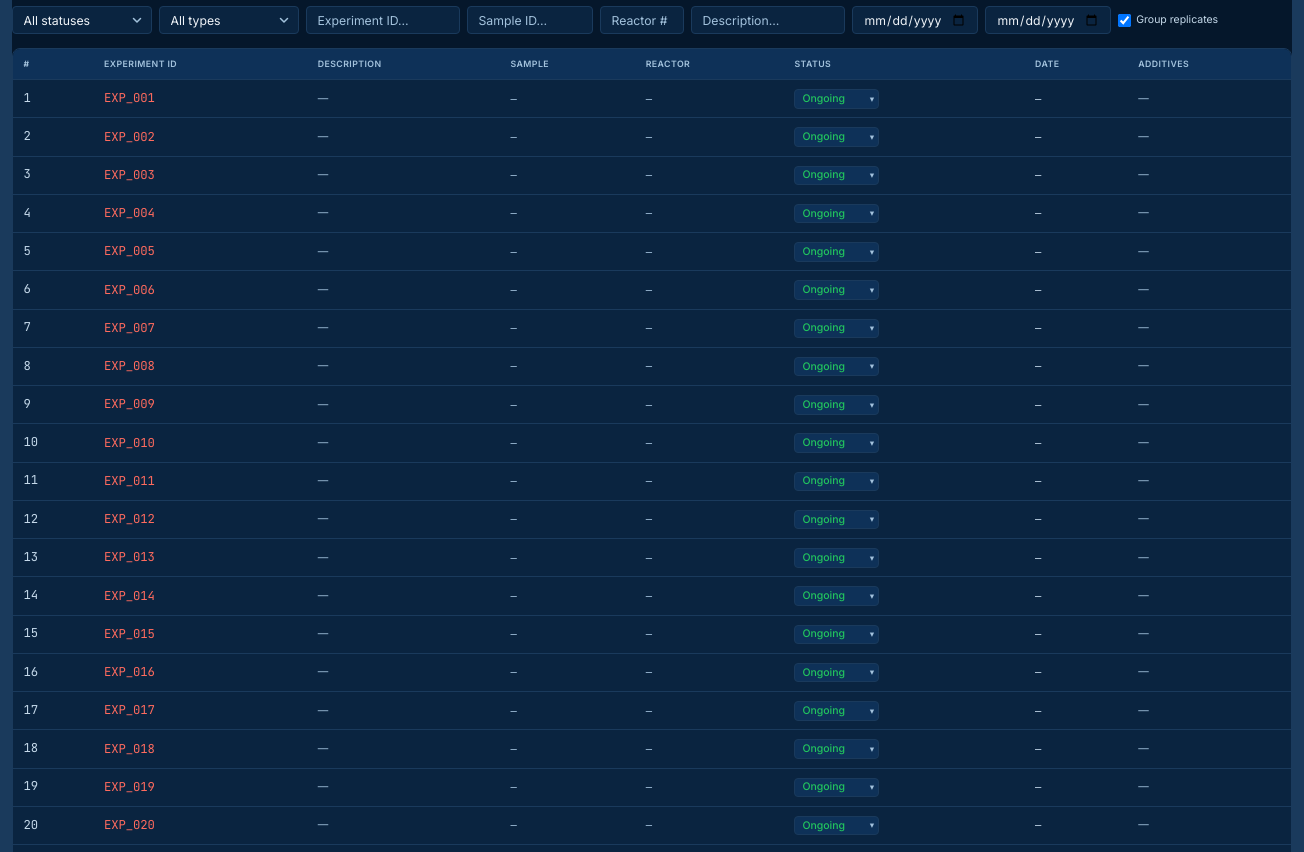
Scenario: ExperimentListPage — pagination reset on filter › resets to page 1 when filters are cleared
# Apply a filter (lands on page 1)
Step 1. Select "Ongoing" in the dropdown named "status filter" → [82, 20], box top-left (12, 6), bottom-right (152, 34)
(page scrolled)
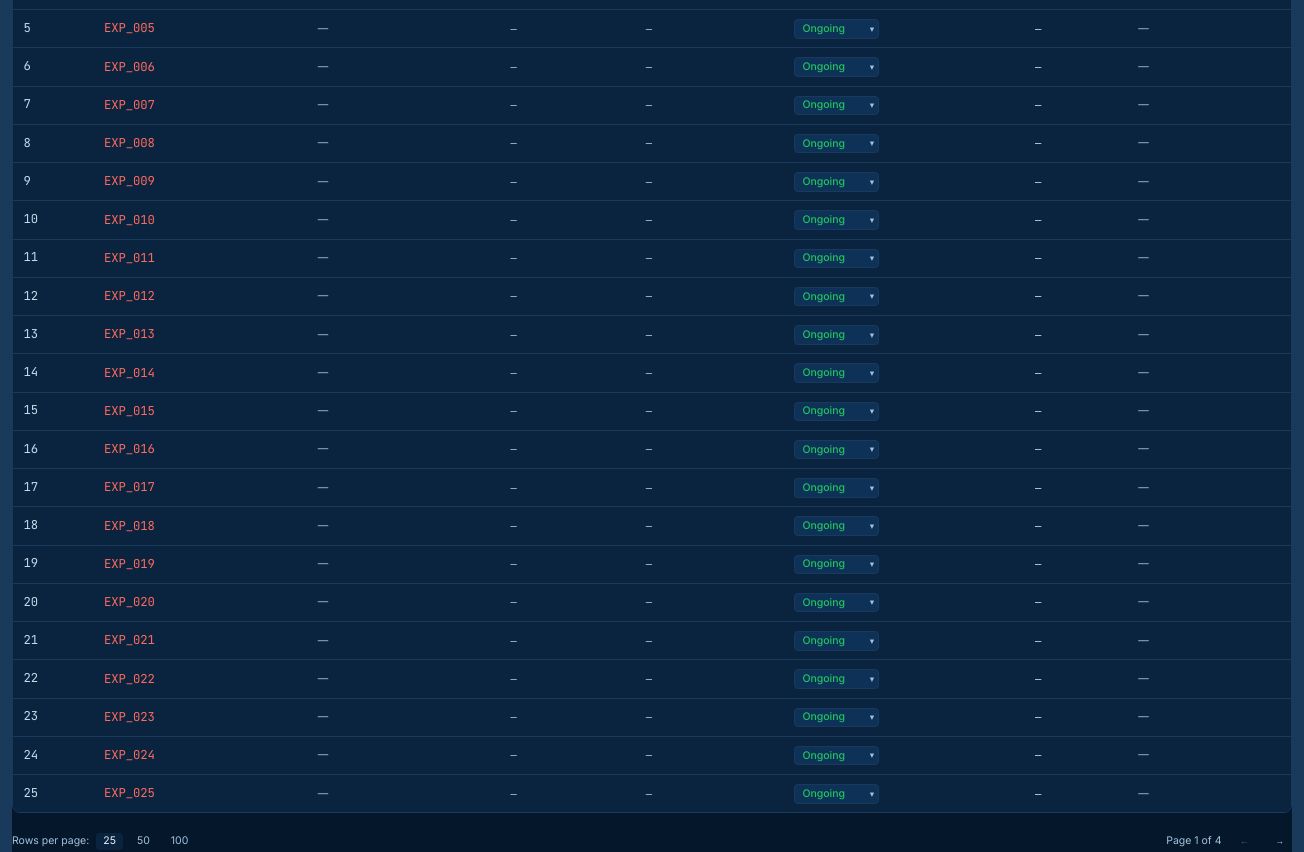
Expected: the text "Page 1 of 4" is shown, top-left (1166, 834), bottom-right (1222, 848)
# Navigate to page 2 within the filtered set
Step 2. Click the button "→" → [1280, 841], box top-left (1267, 831), bottom-right (1292, 851)
(page scrolled)
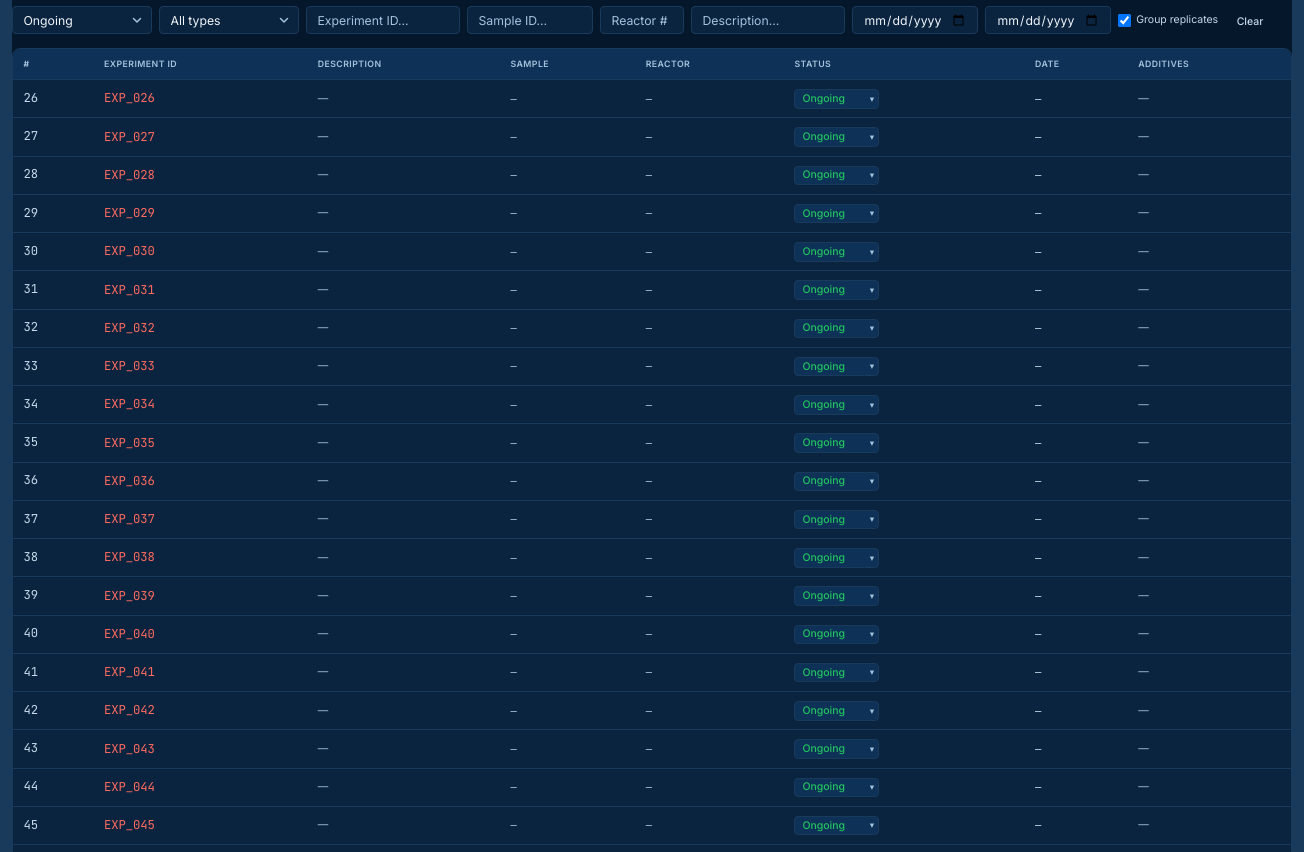
# Clear filters
Step 3. Click the button "Clear" → [1250, 22], box top-left (1225, 10), bottom-right (1275, 34)
(page scrolled)
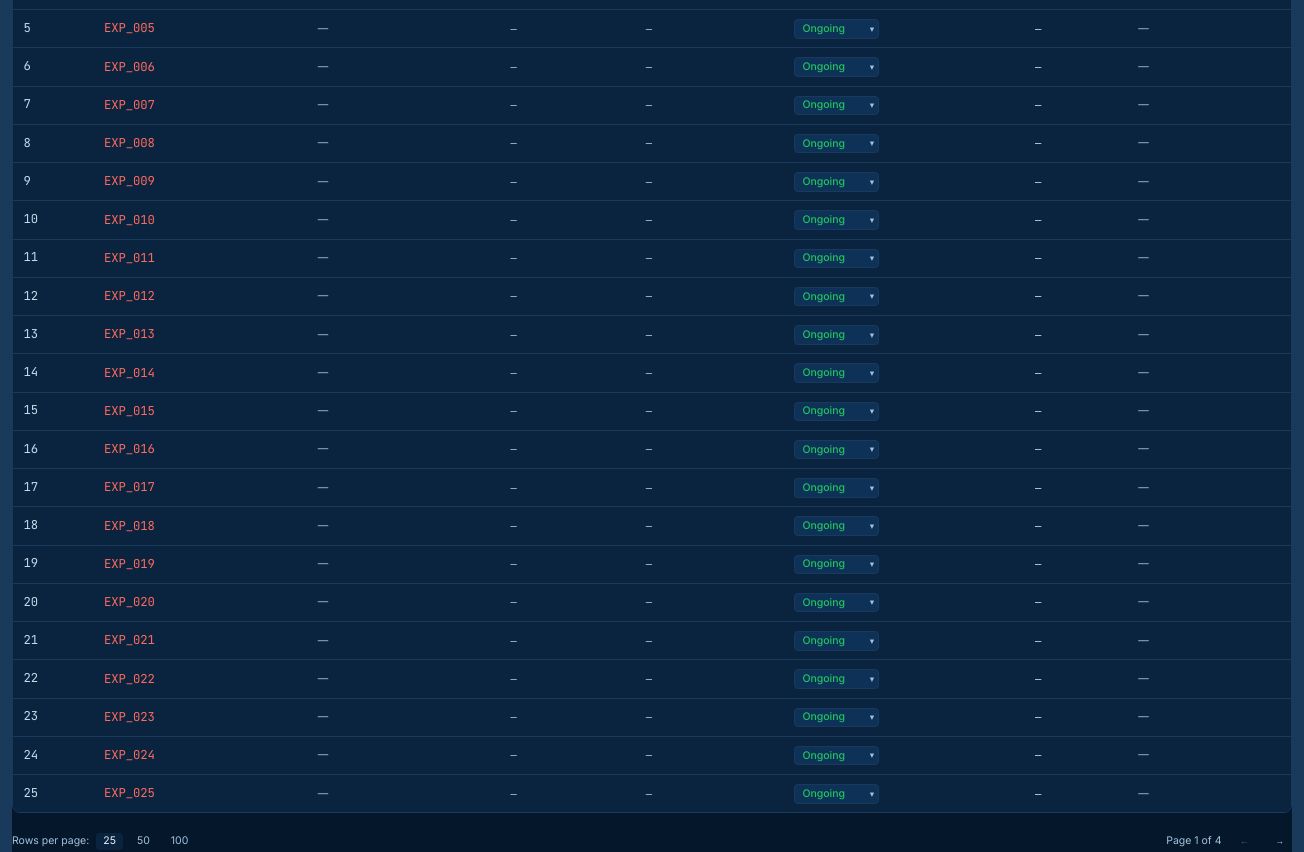
Expected: the text "Page 1 of 4" is shown, top-left (1166, 834), bottom-right (1222, 848)
